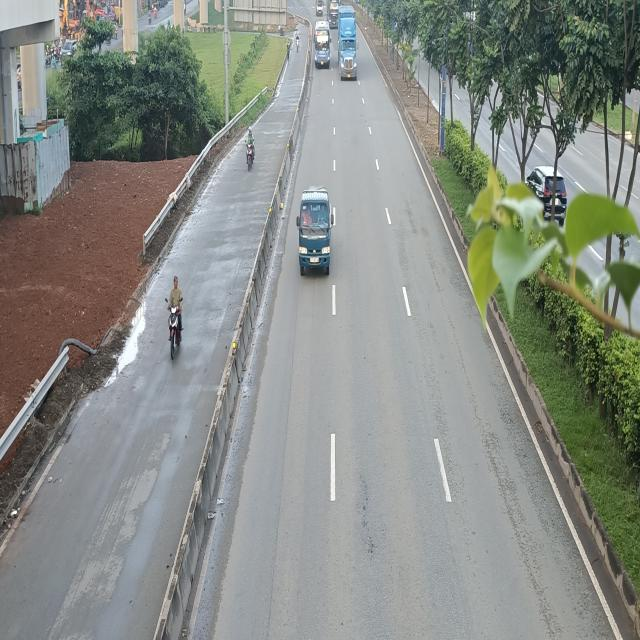coach: (313, 20, 331, 68)
container: (339, 5, 361, 80)
truck: (296, 187, 336, 278)
